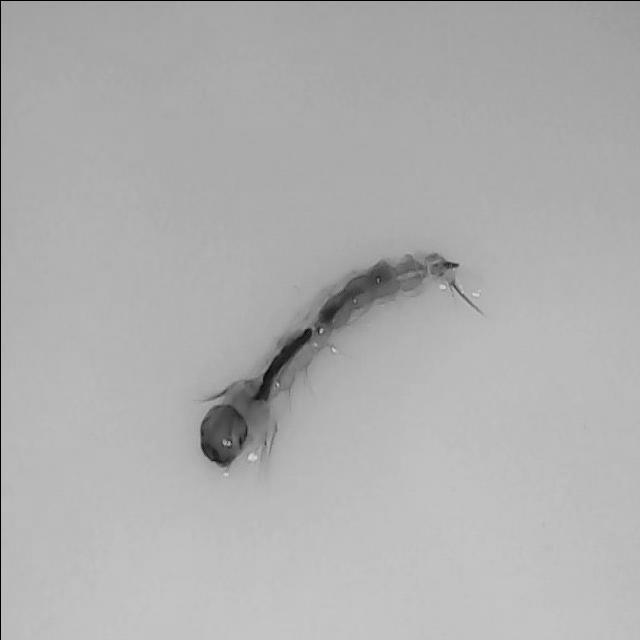larvas: (200, 245, 455, 465)
